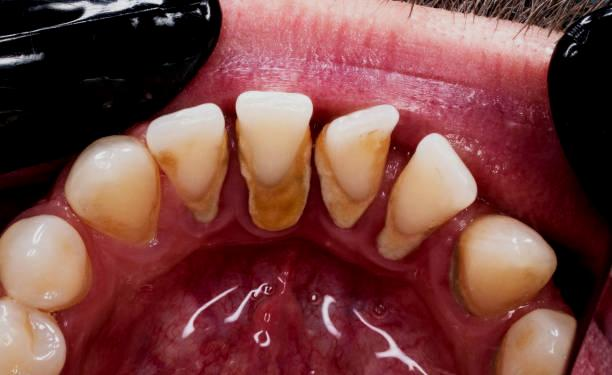Calculus: (439, 208, 554, 311), (311, 84, 398, 220), (234, 93, 320, 230)
